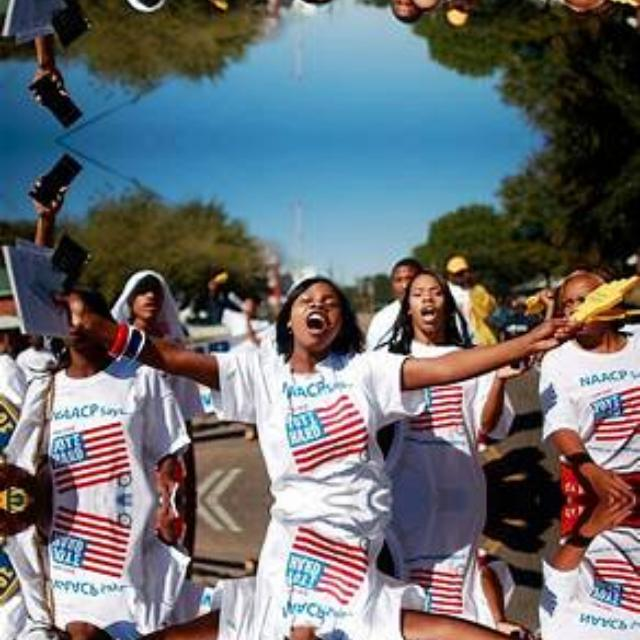person: (246, 278, 422, 487), (246, 512, 422, 640), (394, 268, 488, 410), (393, 588, 488, 640), (393, 0, 488, 12), (246, 0, 422, 2)
